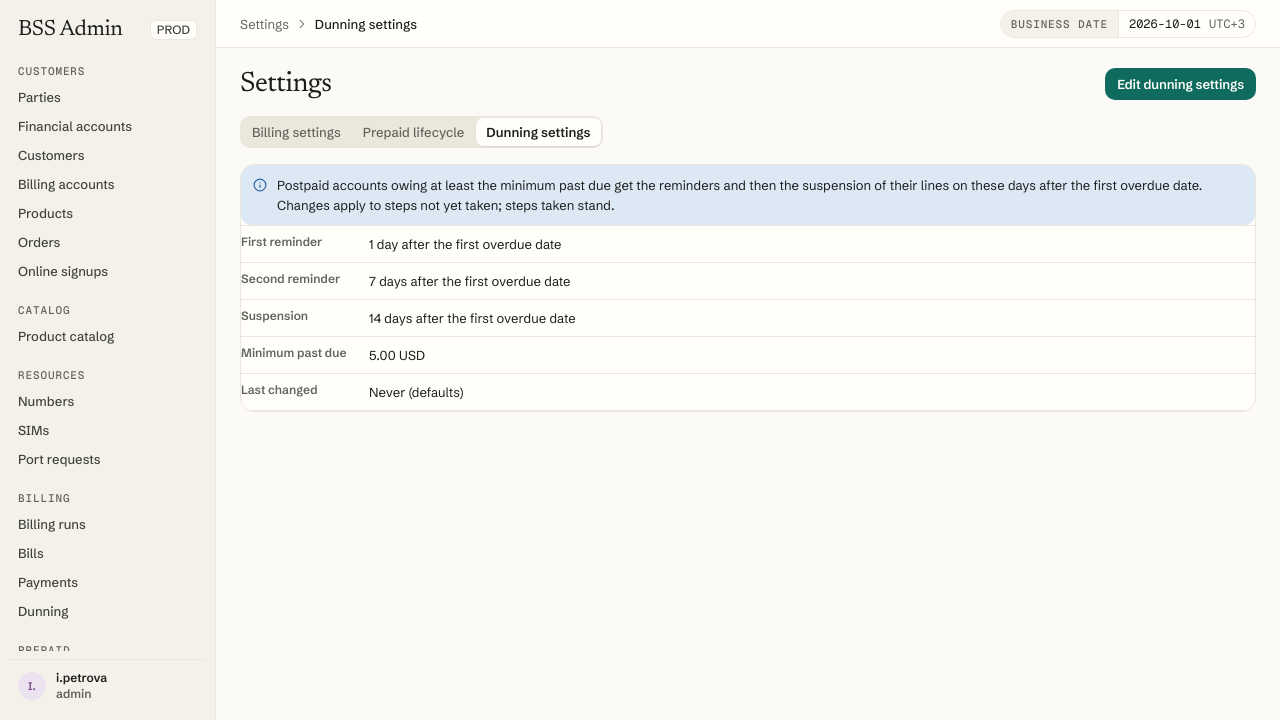
Test case: dunning settings › keeps the values and shows the server refusal
Expected: the heading "Settings" is shown, [240, 68, 332, 100]
Click the button "Edit dunning settings". click: point(1181, 84)
box: [1105, 68, 1256, 100]
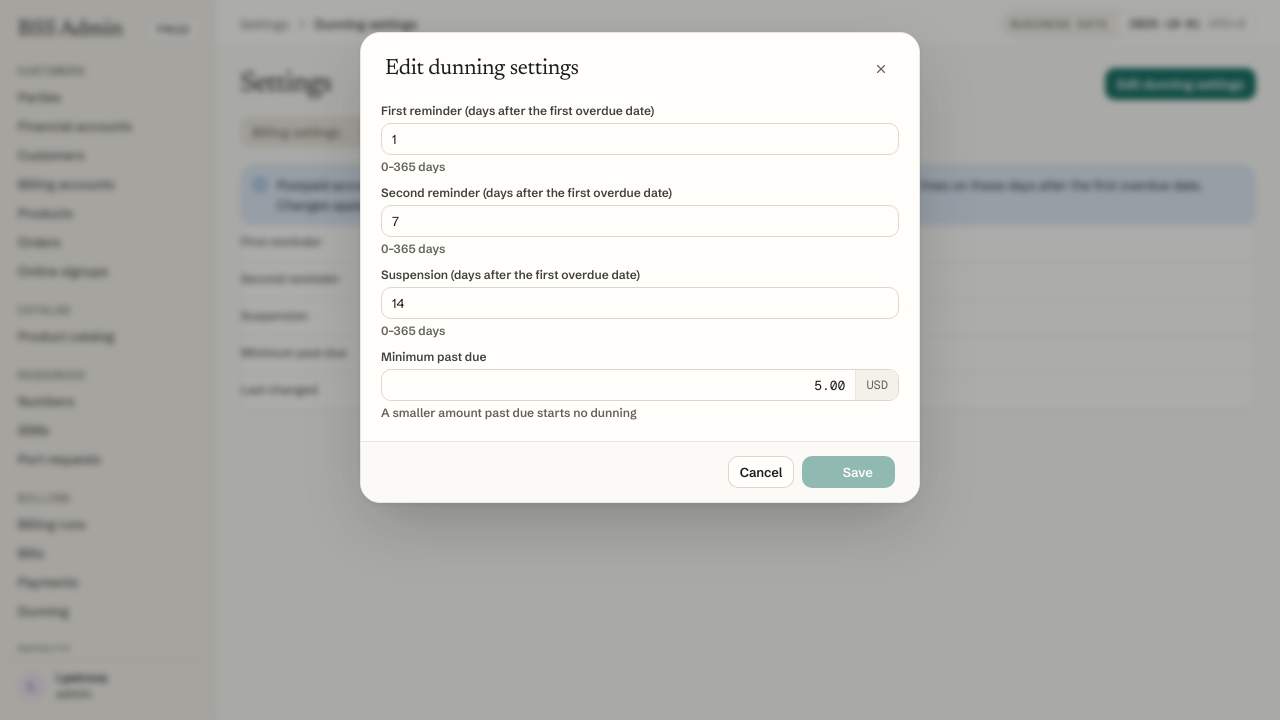
Replace the text in the number field labelled "Suspension" with "20". click: point(640, 303)
box: [381, 287, 899, 319]
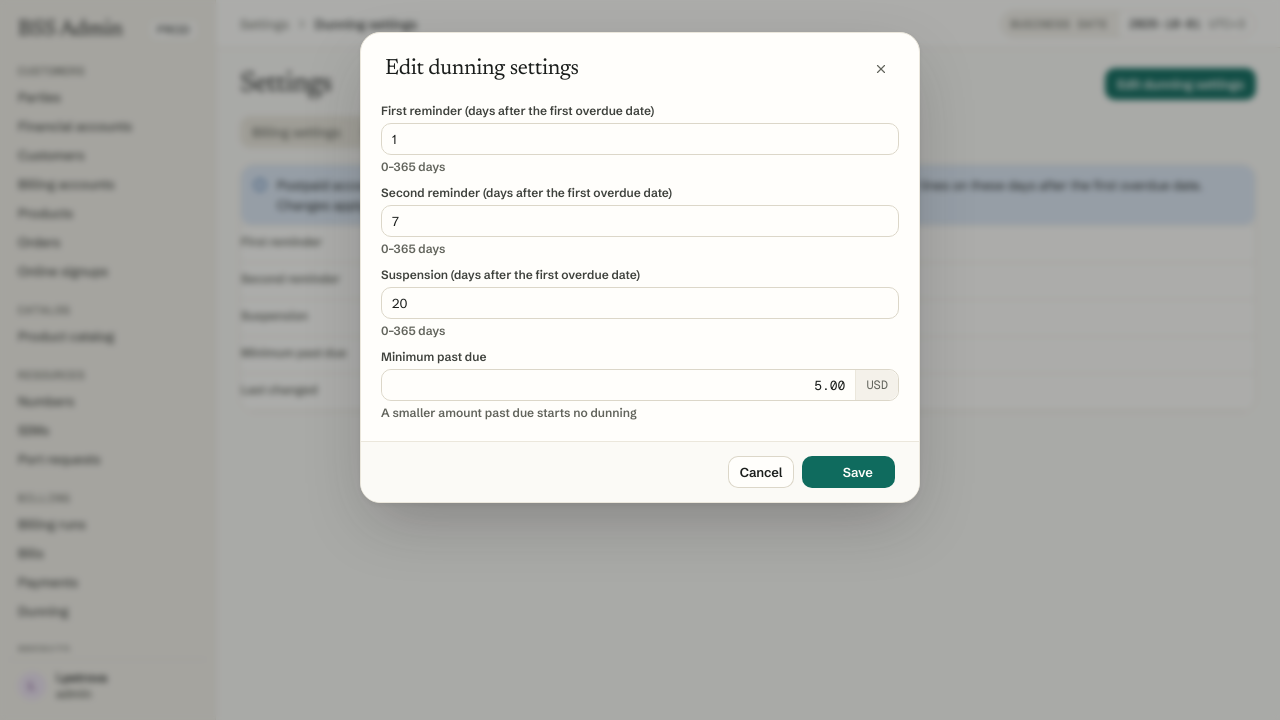
Click the button "Save". click: point(849, 472)
box: [802, 456, 895, 488]
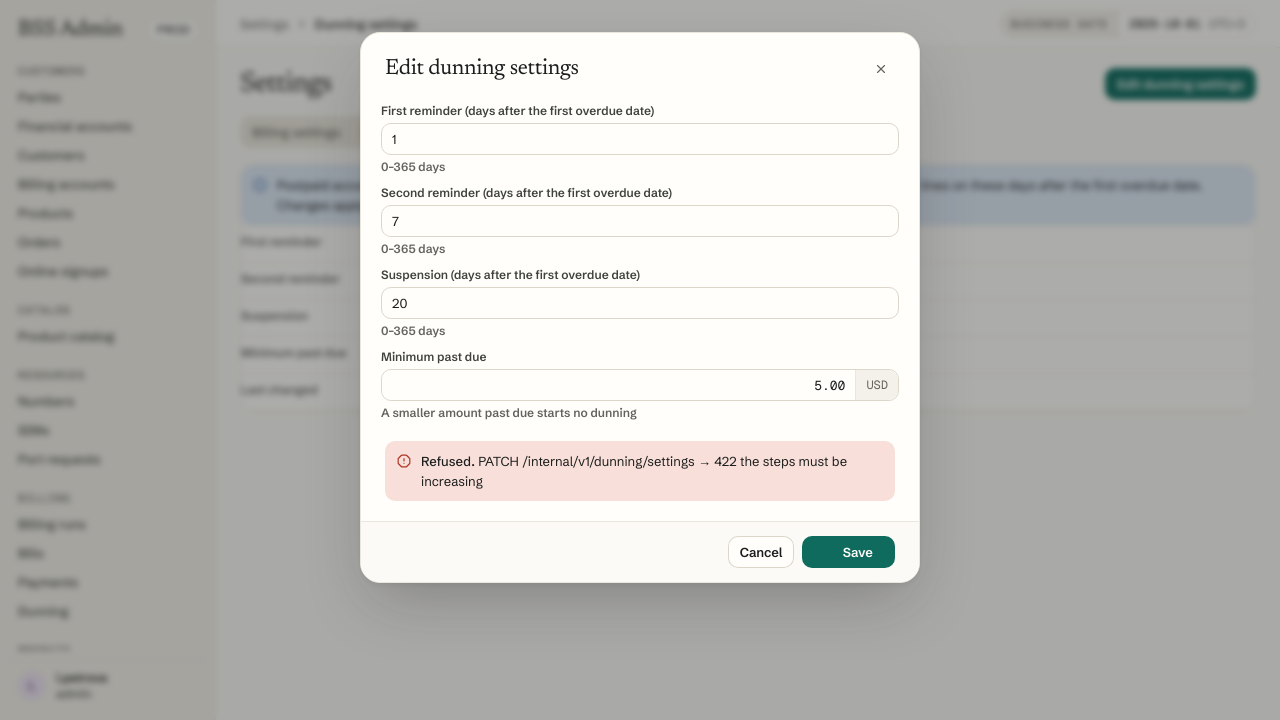
Expected: the text "the steps must be increasing" is shown, [421, 453, 847, 489]
